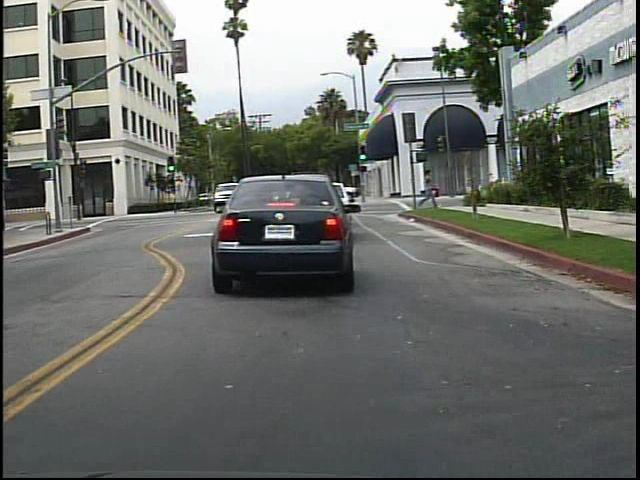person: (418, 167, 441, 214)
